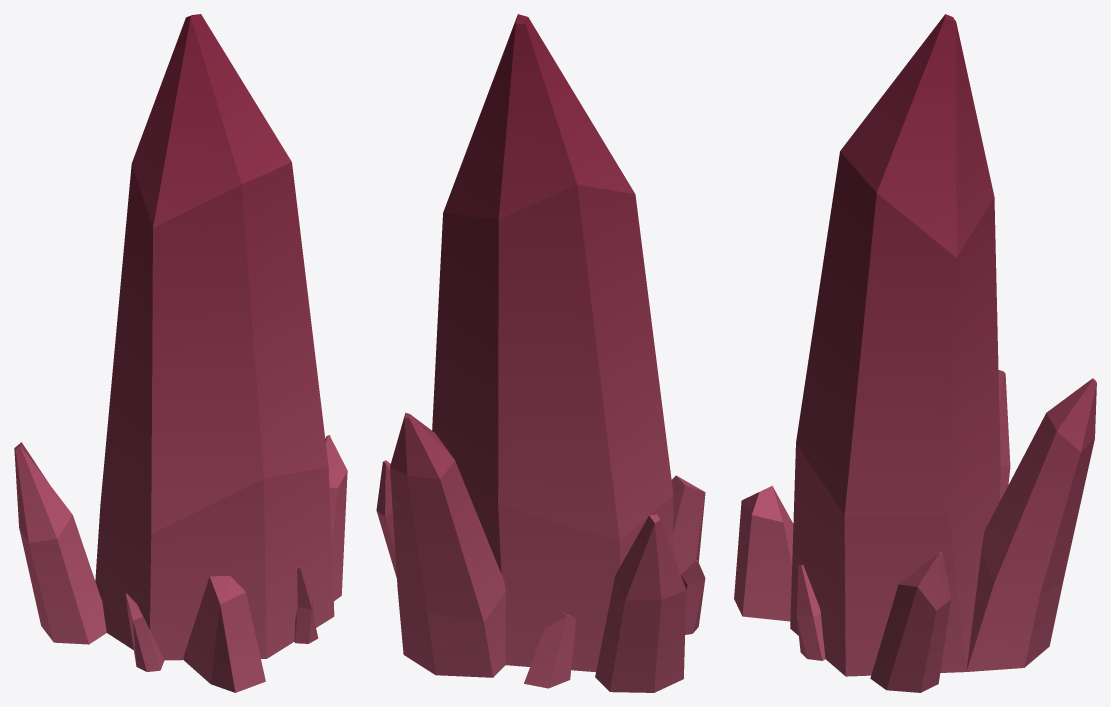
File: crystal_red.fbx
3 views of the same model, side by side, from view 1: azimuth 30°, elevation 25°; view 2: azimuth 150°, elevation 25°; view 3: azimuth 270°, elevation 25° (orthographic). The views are drawn at different scales.
Parts seen in each view (by area): view 1: crystal_red; view 2: crystal_red; view 3: crystal_red.
Boxes of the visible parts, x1,y1,x2,y2 form: crystal_red: (14, 14, 347, 692); crystal_red: (376, 14, 705, 692); crystal_red: (734, 14, 1096, 692).
Bounding box in the file's own units: 0.75 × 1.4 × 0.75.
Materials: 1 (1 with a texture image).
